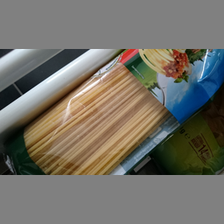pasta: (4, 50, 223, 173)
